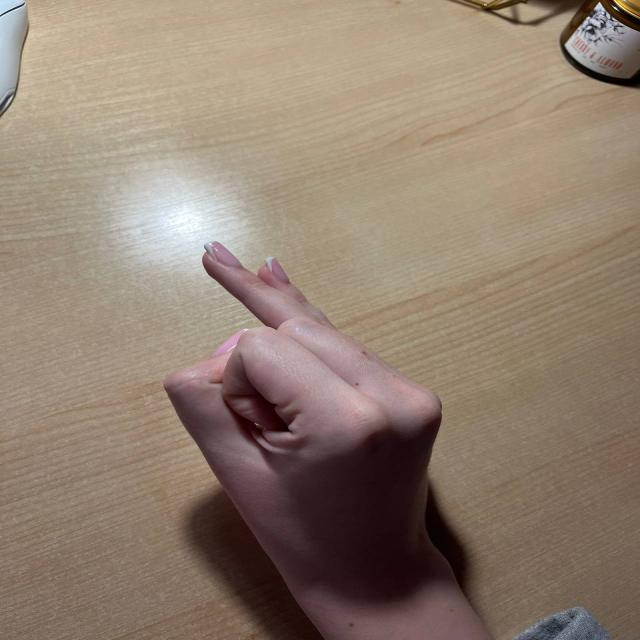i-: (129, 233, 460, 540)
